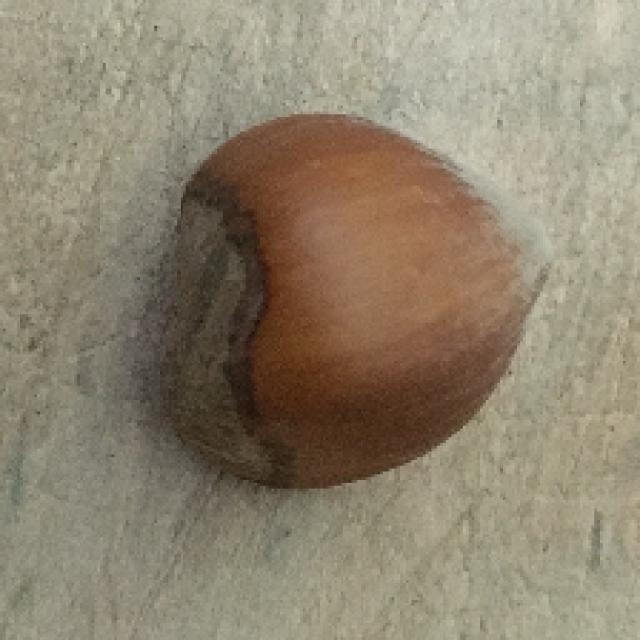QualityHazelnut: (160, 114, 557, 486)
